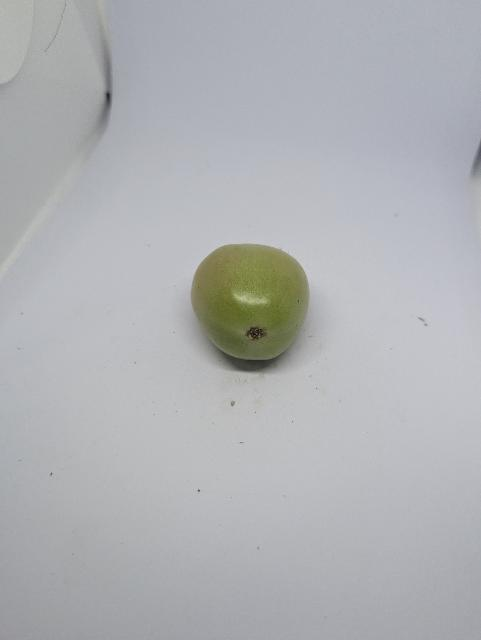green: (188, 240, 315, 362)
